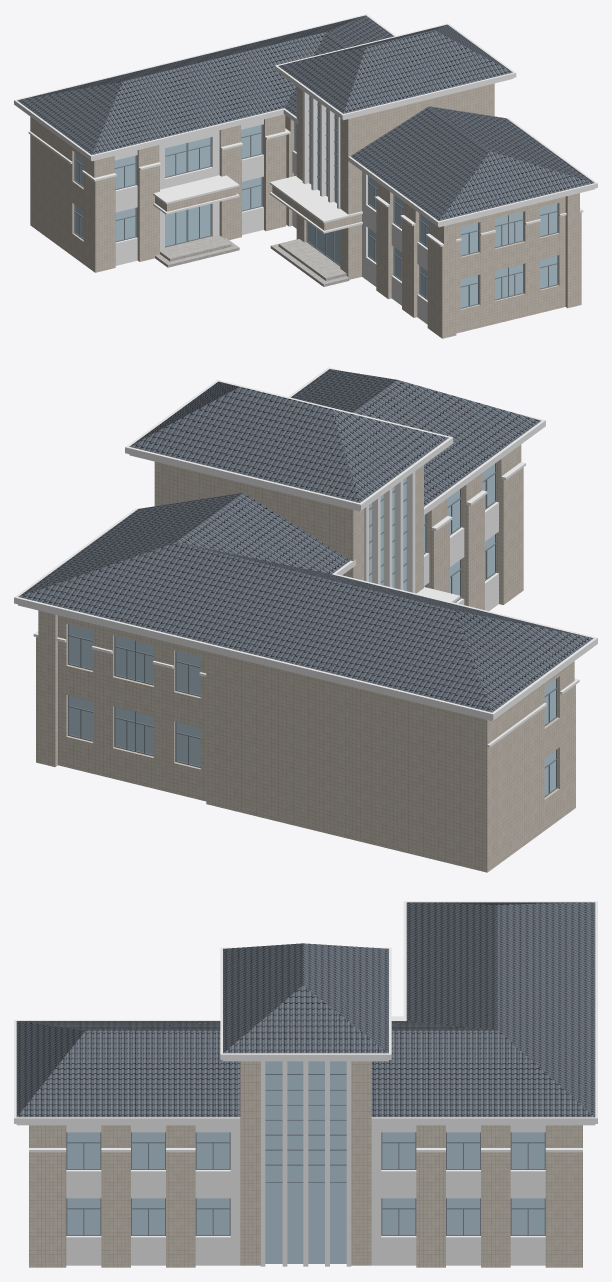
File: building_5.gltf
The picture shows the model from 3 angles, top to bottom: view 1: azimuth 30°, elevation 25°; view 2: azimuth 150°, elevation 25°; view 3: azimuth 270°, elevation 25°; orthographic projection. The views are drawn at different scales.
Visible parts, largest first — view 1: 办公楼35; view 2: 办公楼35; view 3: 办公楼35.
Boxes of the visible parts, x1,y1,x2,y2 form: 办公楼35: (14,14,597,338); 办公楼35: (14,367,597,872); 办公楼35: (14,901,597,1267).
Size of the model in its own units: 20.67 by 11.47 by 23.48.
Materials: 7 (4 with a texture image).
